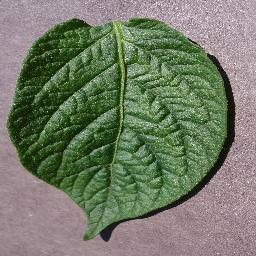Potato_healthy: (7, 18, 228, 241)
